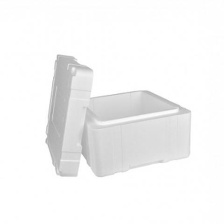foam_box: (60, 85, 197, 180), (41, 48, 98, 180)
